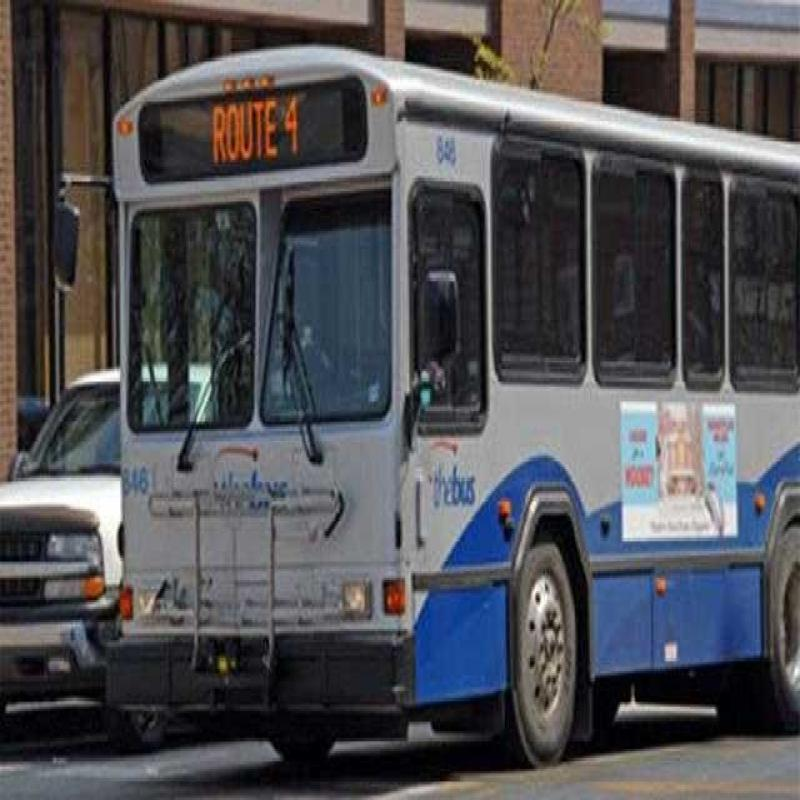bus: (108, 50, 800, 750)
